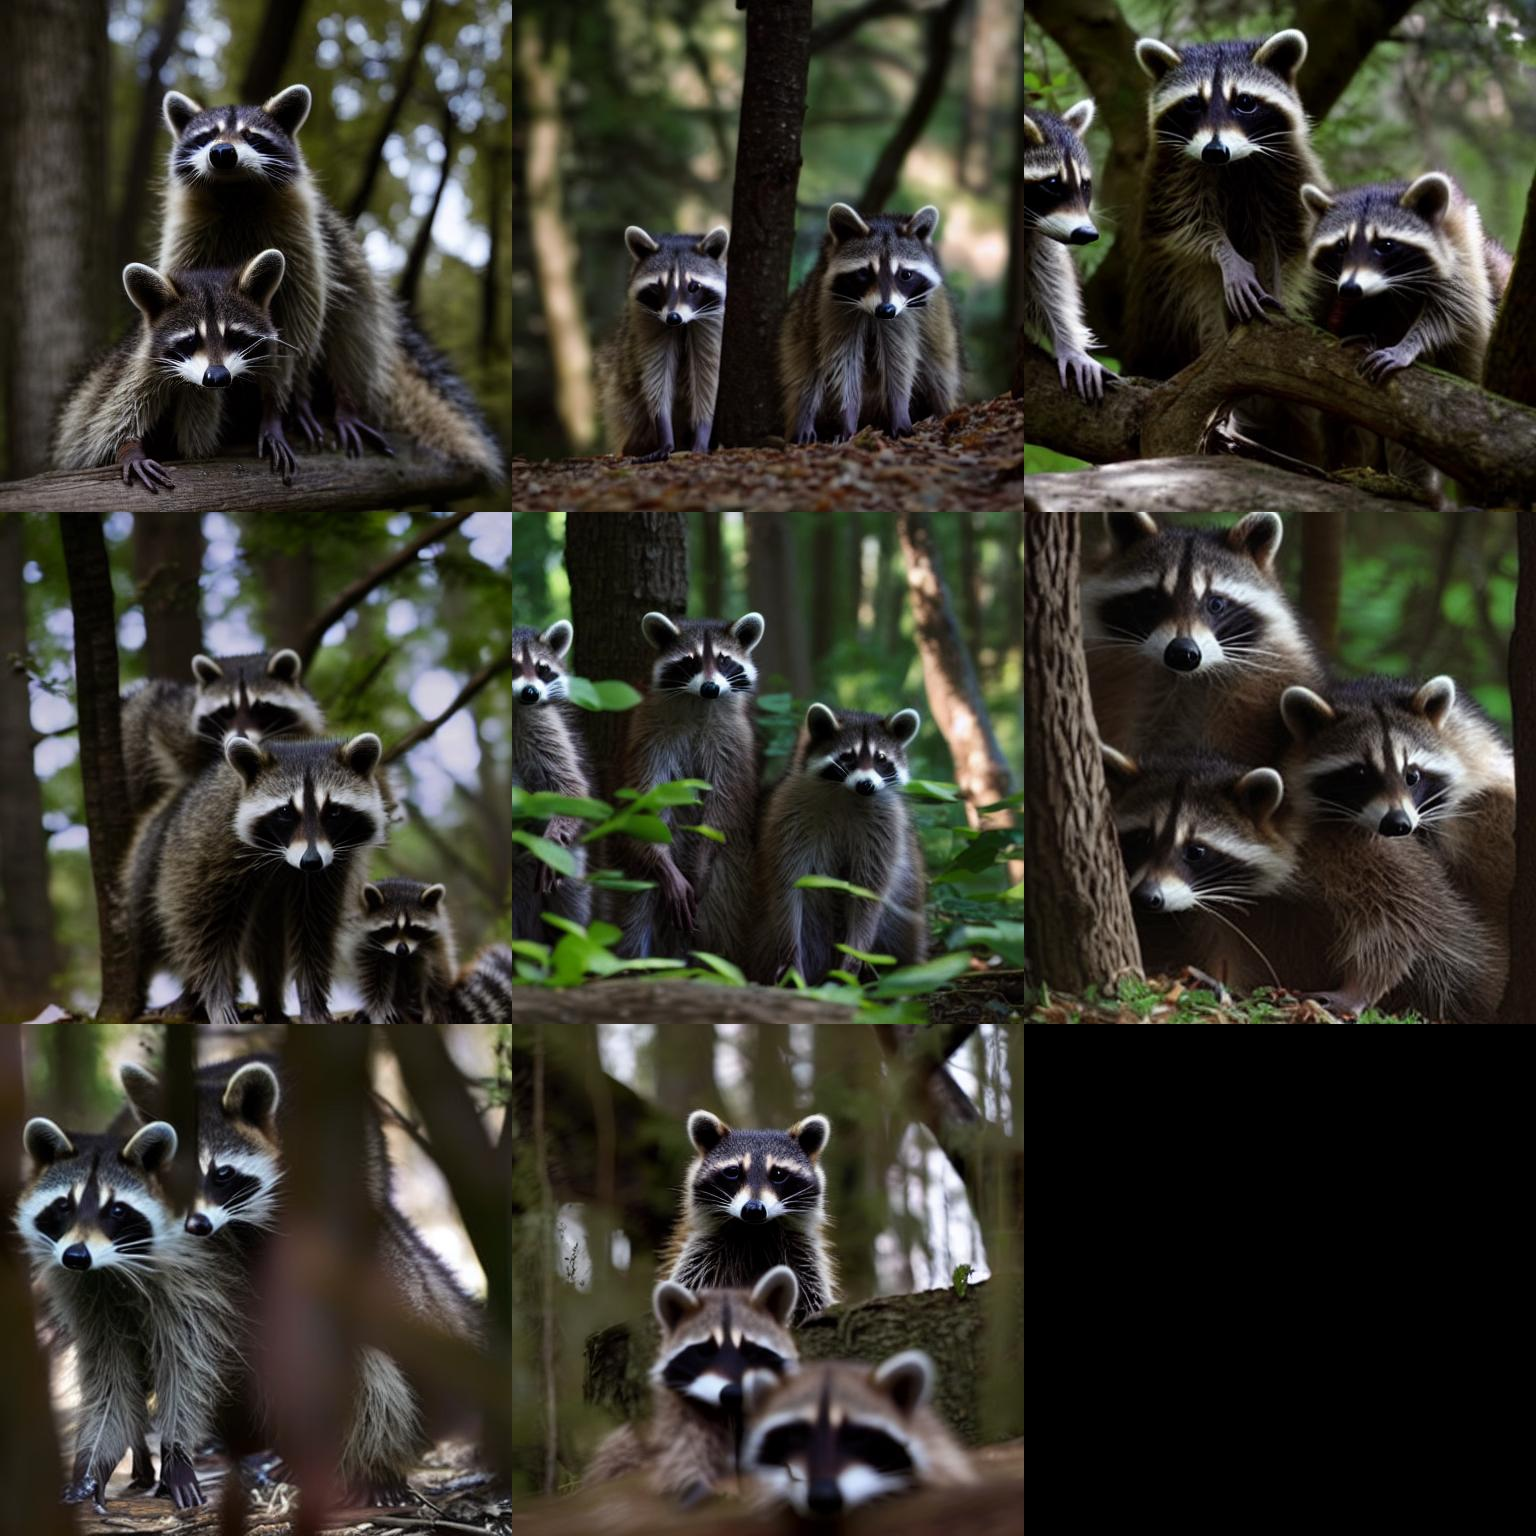raccoon: (143, 82, 506, 475), (1099, 740, 1508, 1021), (105, 724, 402, 1000), (11, 1117, 242, 1467), (1075, 513, 1317, 782), (731, 686, 937, 968), (49, 232, 308, 454), (1272, 661, 1529, 879), (630, 596, 785, 926), (722, 1340, 992, 1521), (1135, 20, 1325, 270), (1291, 163, 1529, 357), (653, 1101, 857, 1321), (771, 193, 949, 430), (120, 1058, 321, 1243), (111, 640, 335, 803), (594, 217, 741, 446), (623, 1273, 803, 1460), (342, 876, 508, 1017), (1025, 89, 1111, 359), (516, 606, 585, 826)
